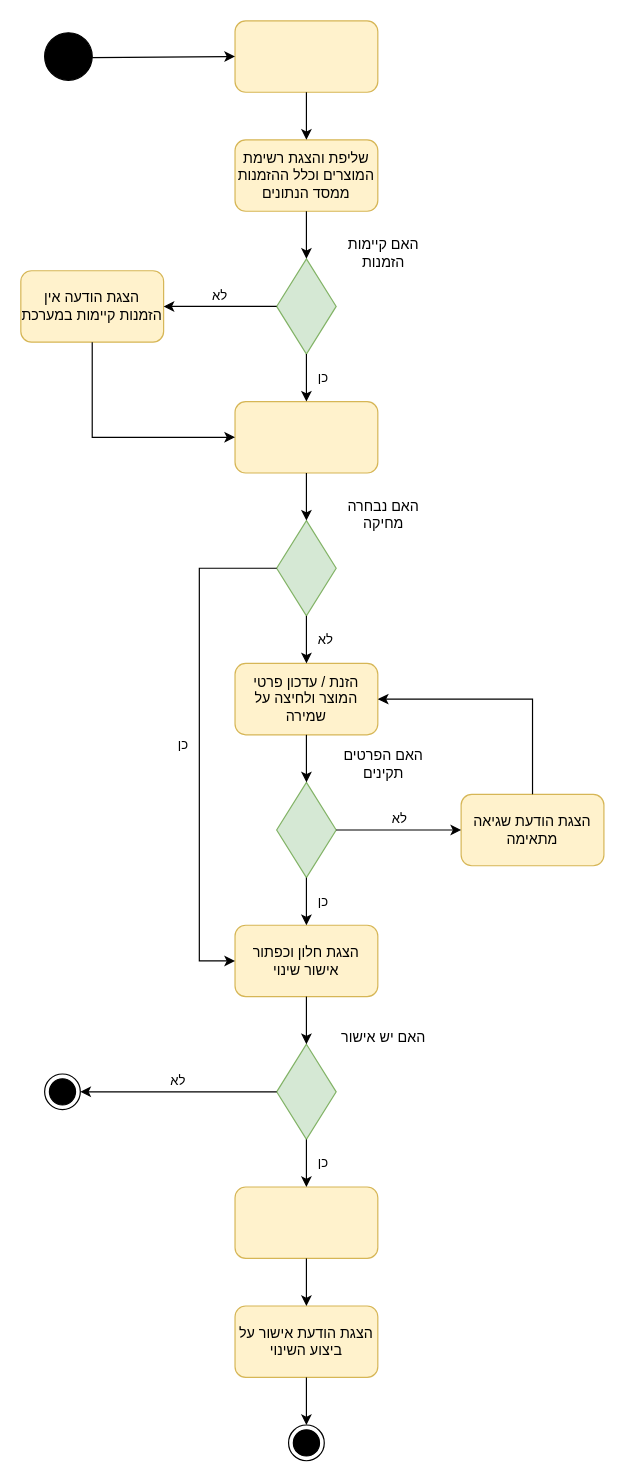
This 625x1482 diagram has some shape labels left out. Each missing label, with the centre of its shape:
בחירת פעולה הוספת מוצר, עדכון מוצר או מחיקת מוצר: the point at 306,436
לחיצה על אפשרות ניהול חנות: the point at 306,56
עדכון המוצרים במסד הנתונים: the point at 306,1222
